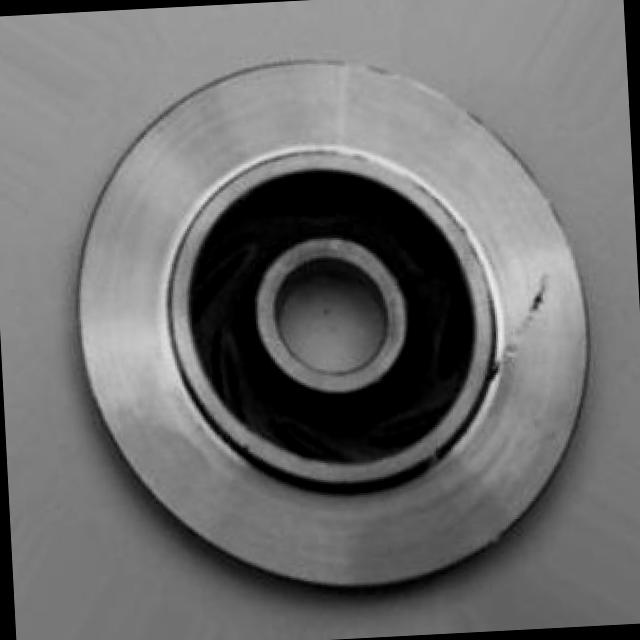Defect: (509, 270, 565, 336)
